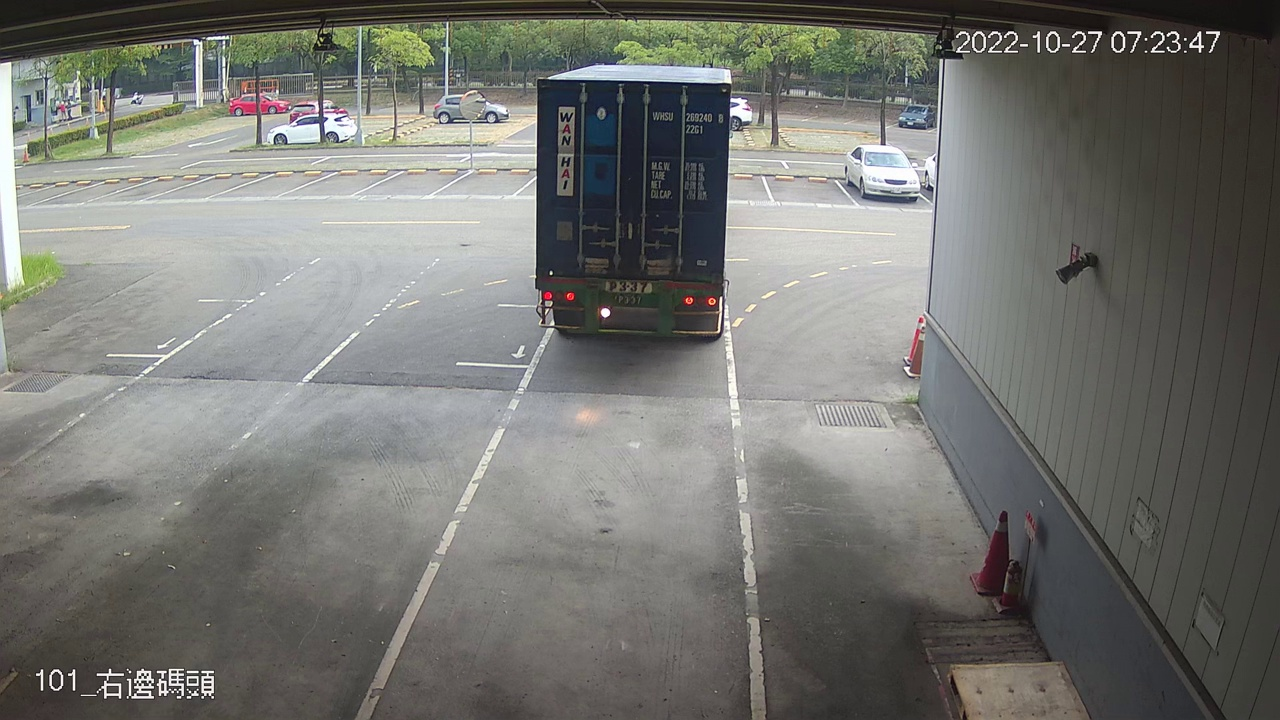container: (648, 108, 726, 137)
